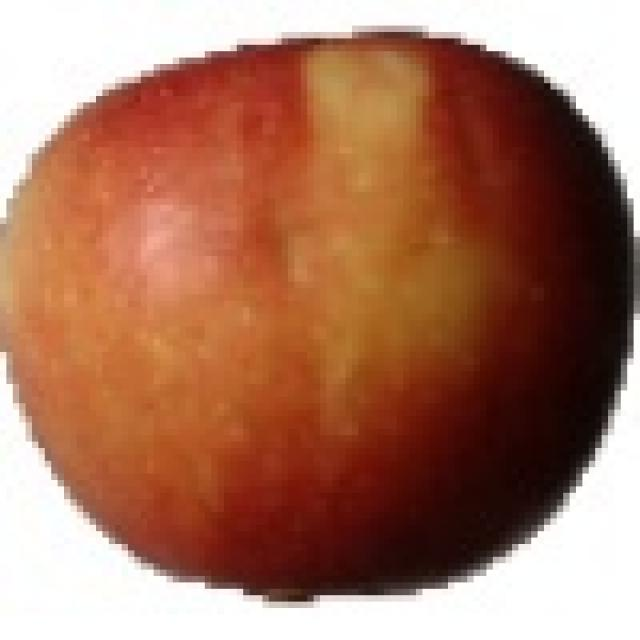apple: (8, 37, 636, 596)
